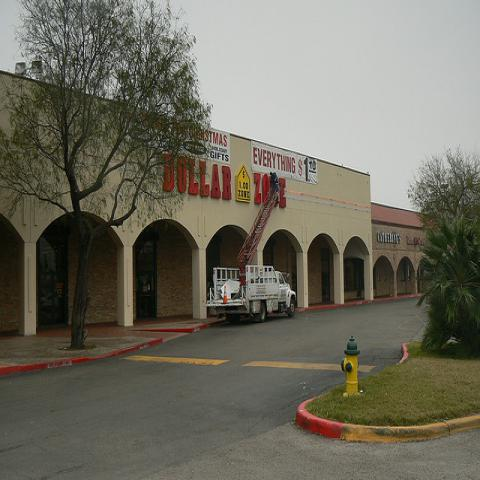truck: (206, 265, 296, 323)
